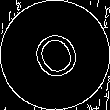O_SE: (24, 22, 86, 88)
